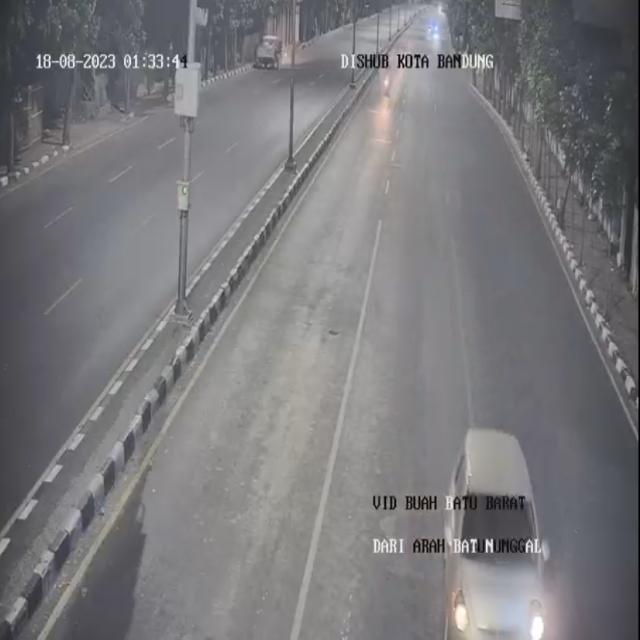cars: (436, 425, 554, 640)
motorcycle: (380, 63, 394, 99)
